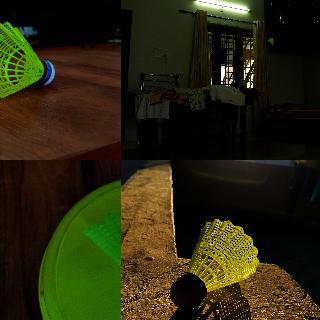shuttlecock: (170, 219, 258, 309), (83, 175, 120, 319), (0, 20, 55, 100), (266, 37, 274, 45)
